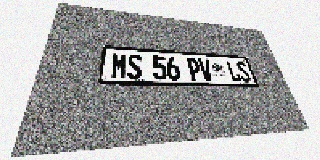5: (152, 55, 167, 80)
6: (165, 56, 181, 80)
L: (225, 60, 242, 82)
M: (110, 53, 127, 79)
P: (186, 58, 202, 81)
S: (127, 54, 142, 80), (235, 61, 252, 82)
V: (198, 58, 214, 81)
